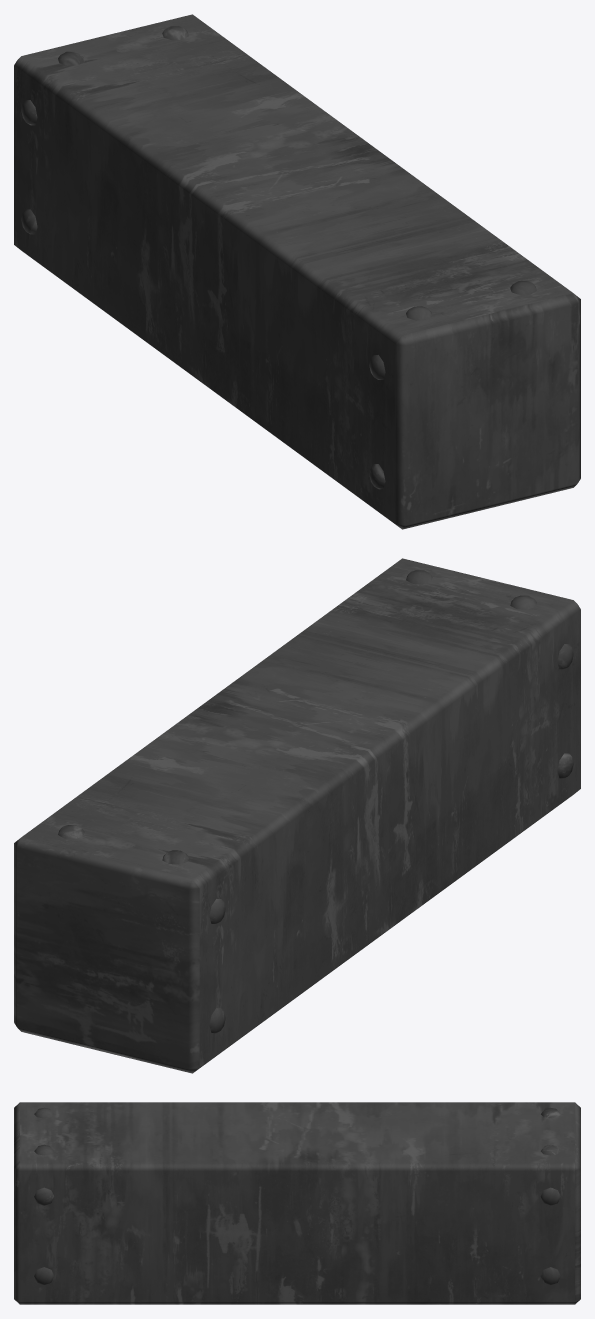
File: pipequad_001.fbx
3 views of the same model, one above another, from view 1: azimuth 30°, elevation 25°; view 2: azimuth 150°, elevation 25°; view 3: azimuth 270°, elevation 25° (orthographic). The views are drawn at different scales.
Visible parts, largest first — view 1: pipequad_001; view 2: pipequad_001; view 3: pipequad_001.
Part boxes in pixels (box(x1,y1,x2,y2)): pipequad_001: box(14, 14, 580, 529); pipequad_001: box(14, 558, 580, 1073); pipequad_001: box(14, 1102, 580, 1304).
Size of the model in its own units: 942 by 3200 by 942.
